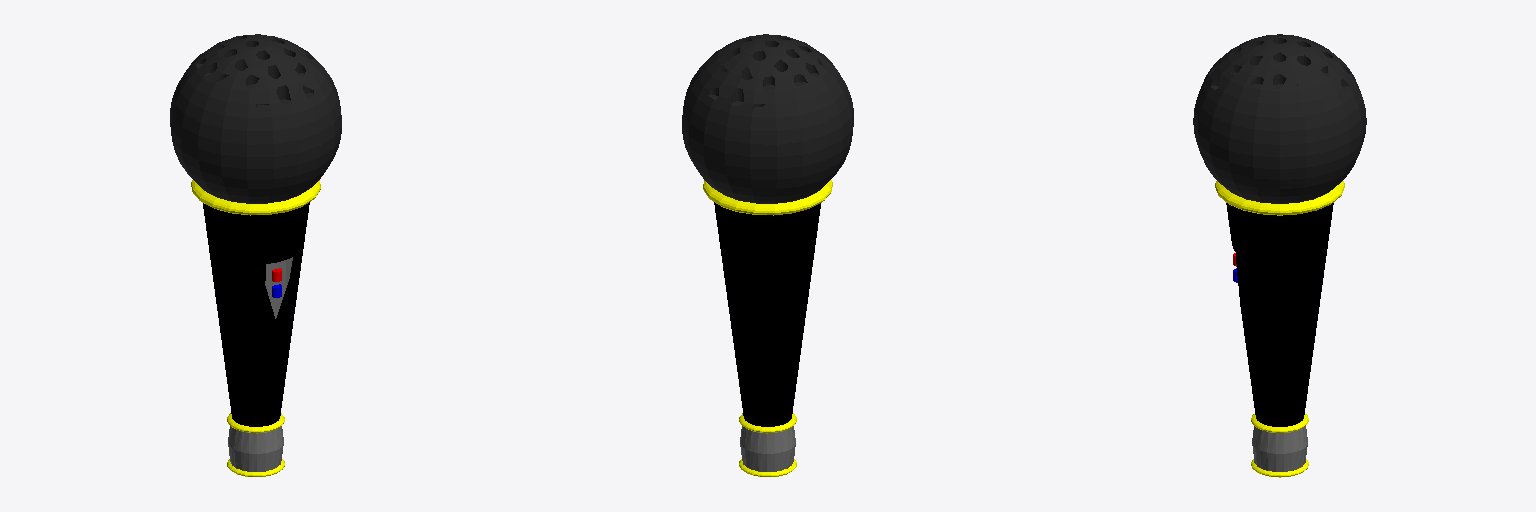
The model's file is microphone.obj.
3 views of the same model, side by side, from view 1: azimuth 30°, elevation 25°; view 2: azimuth 150°, elevation 25°; view 3: azimuth 270°, elevation 25° (orthographic).
Parts seen in each view (by area): view 1: bottom1; view 2: bottom1; view 3: bottom1.
Boxes of the visible parts, x1,y1,x2,y2 form: bottom1: [170, 34, 341, 476]; bottom1: [682, 34, 853, 476]; bottom1: [1193, 34, 1366, 477].
Bounding box in the file's own units: 3 × 8.14 × 3.